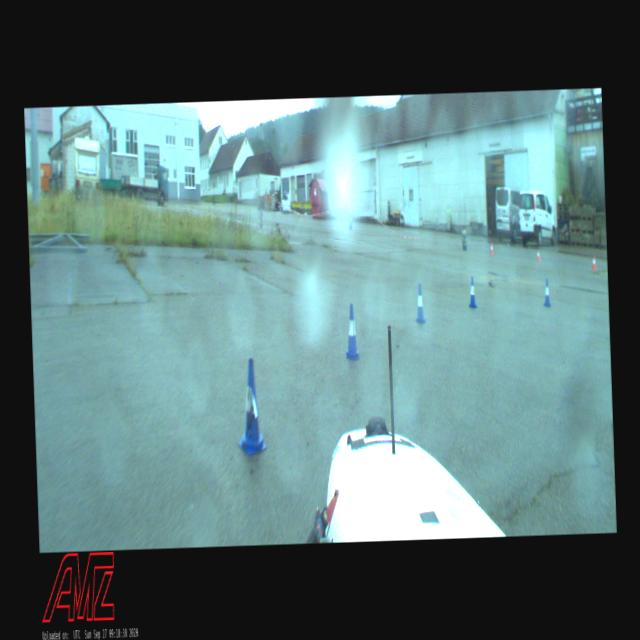blue_cone: (235, 357, 267, 454), (344, 304, 360, 359), (414, 283, 424, 322), (468, 276, 477, 307), (542, 278, 550, 306)
orange_cone: (592, 254, 596, 270), (536, 249, 540, 261), (490, 242, 493, 255)
